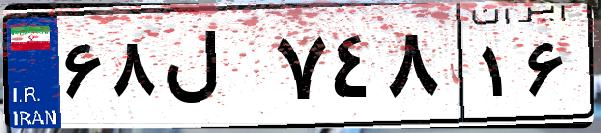1: (475, 38, 525, 113)
4: (330, 28, 385, 110)
6: (57, 26, 110, 100), (525, 38, 570, 115)
7: (270, 28, 330, 110)
8: (385, 28, 445, 110), (110, 28, 158, 98)
ل: (158, 20, 270, 120)
